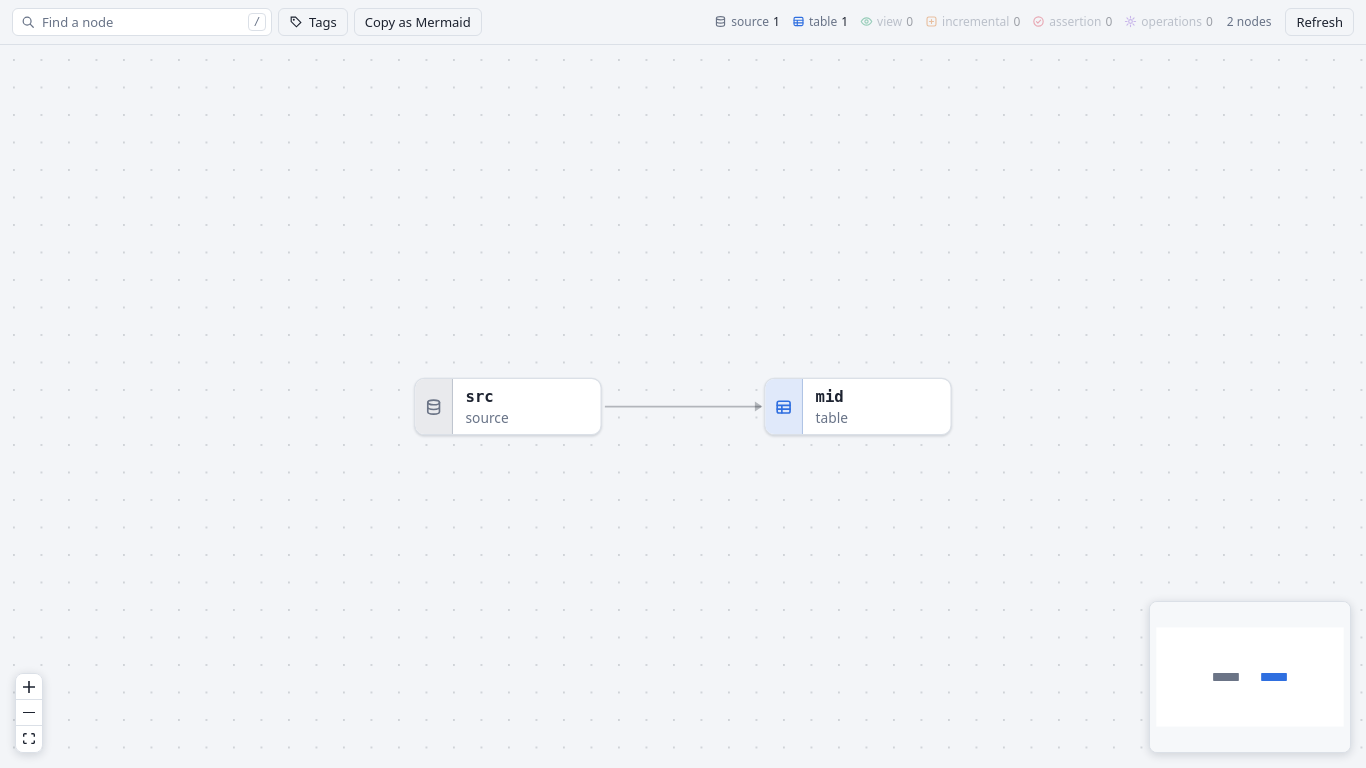
Test: node search › jumps to a matching node and opens its detail panel
Expected: the text "2 nodes" is shown, [1227,14,1271,30]
Type "mi" into the dropdown labelled "Find a node" at {"x": 142, "y": 22}, box [12,8,272,36]
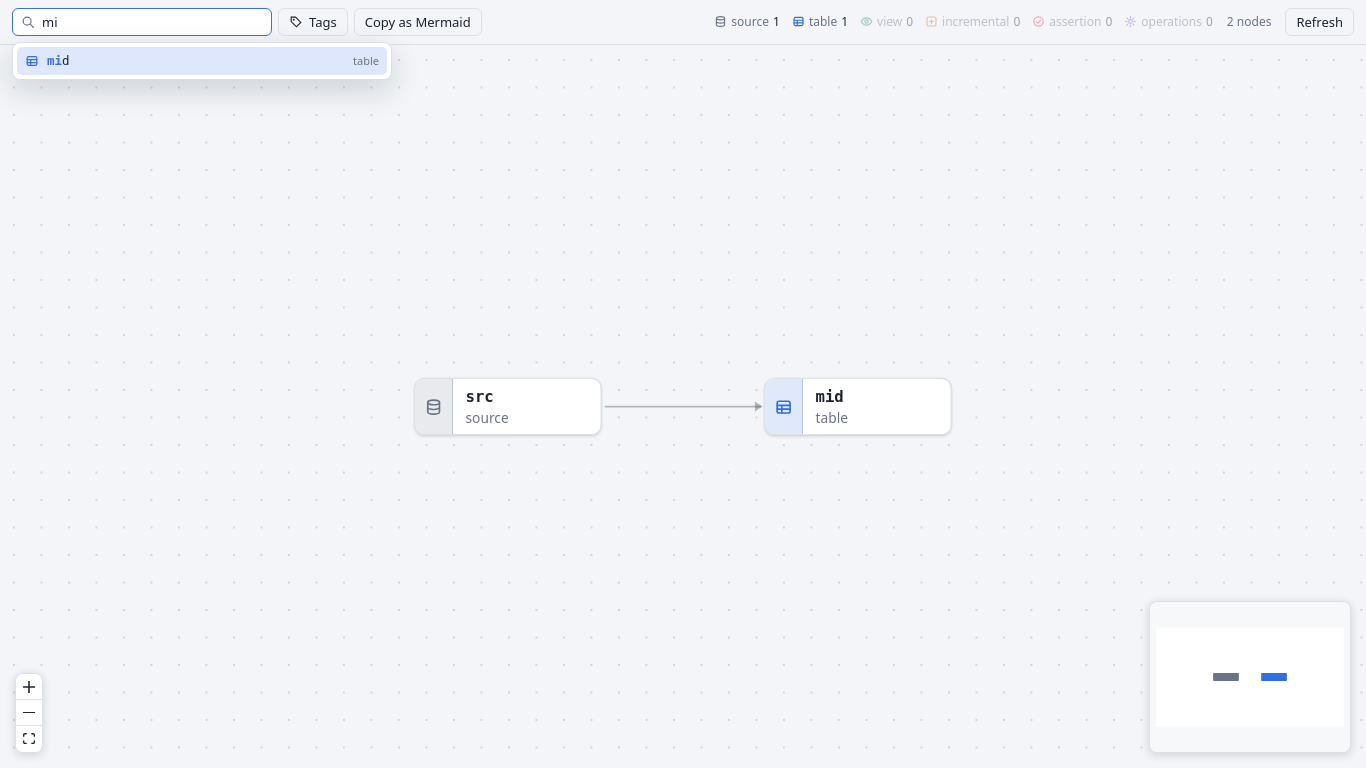
Click the option "mid table" at {"x": 32, "y": 61}, box [17,47,387,74]
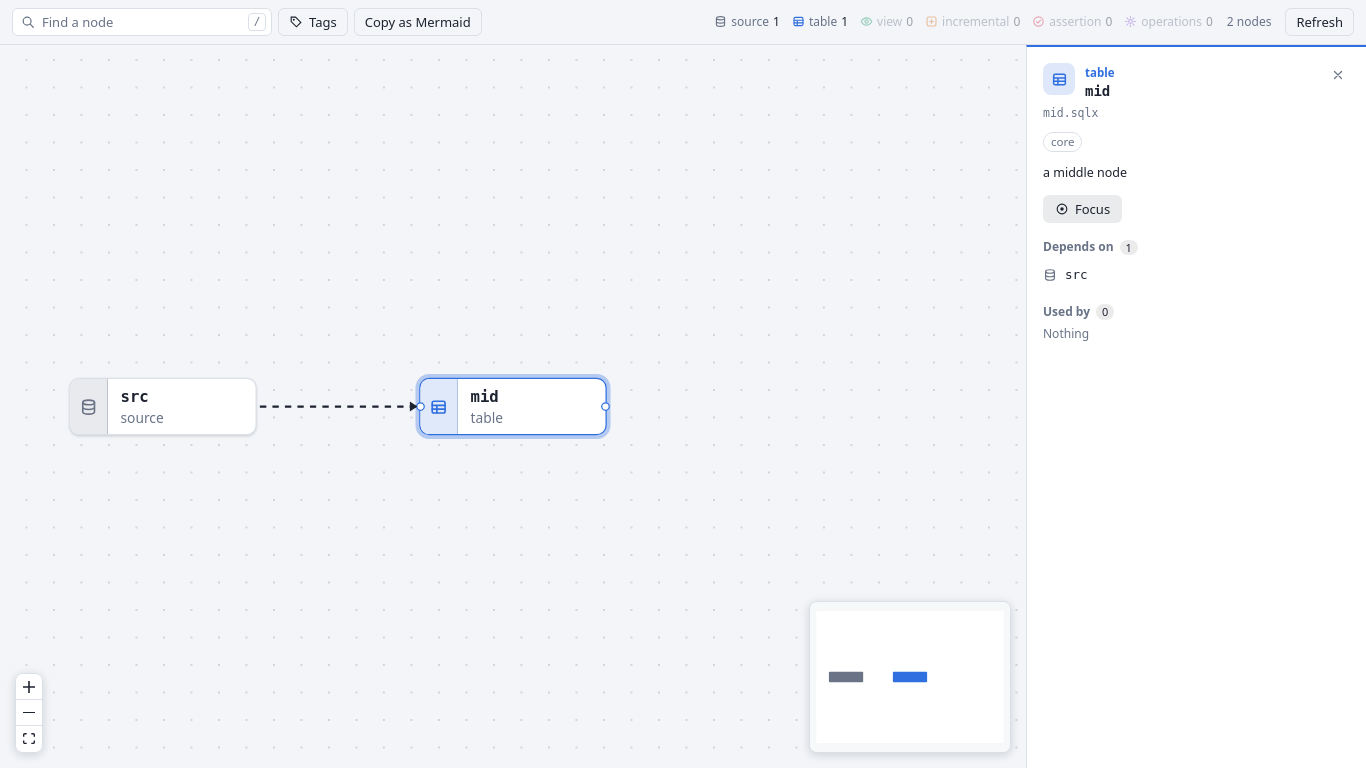
Now the heading "mid" is shown, box [1085,83,1110,99]
